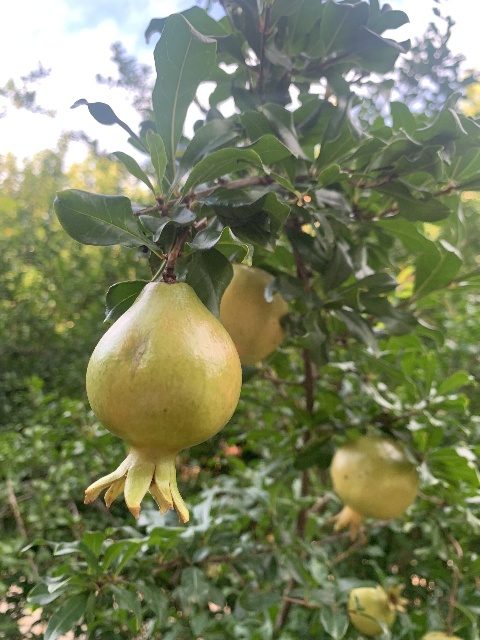mid-growth: (82, 280, 242, 526), (325, 435, 419, 544), (219, 263, 289, 366), (347, 578, 407, 636)
